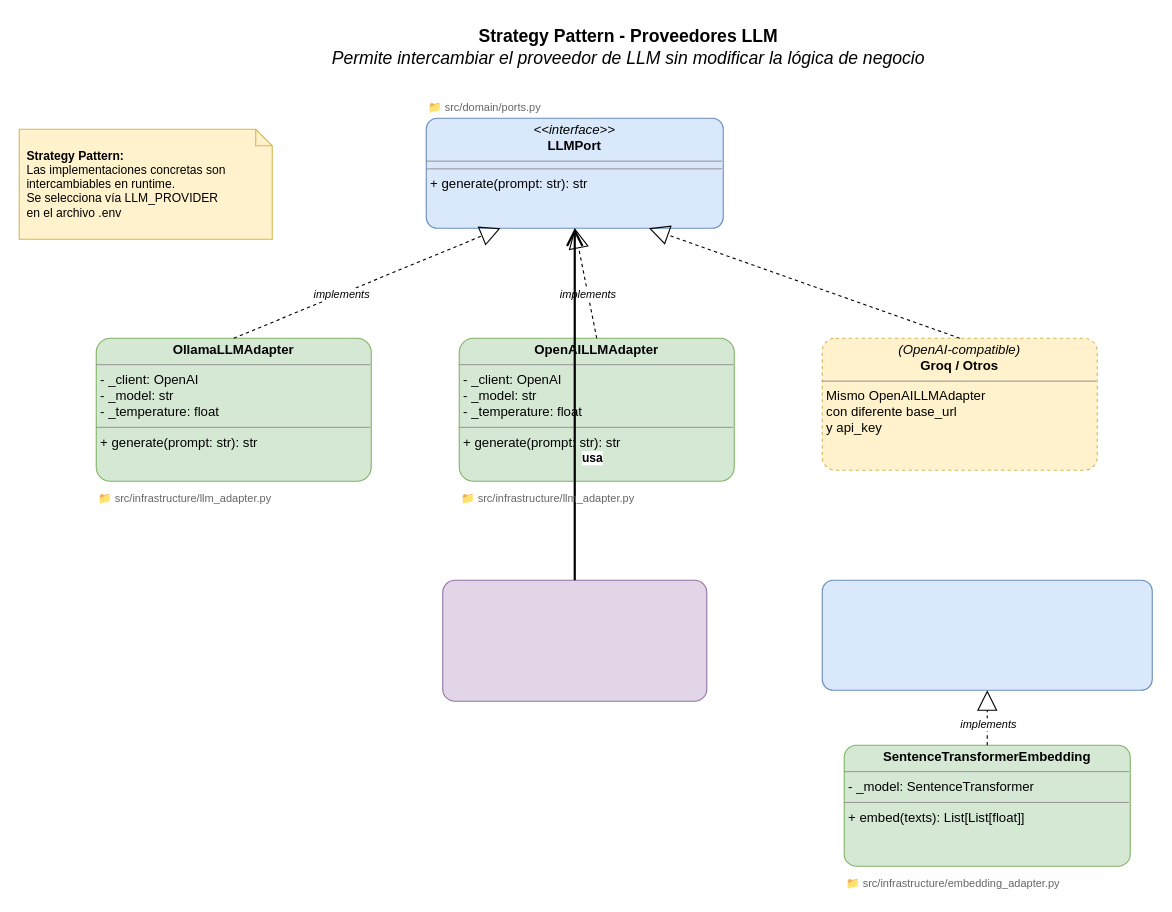
This 1172x912 diagram has some shape labels left out. Here are the shapes that lost their labels. From the top down, the centre of each, then its label:
At (574,640): "RAGService (Context) - _llm: LLMPort + ask(conv_id, question): Dict".
At (986,634): "<<interface>> EmbeddingPort + embed(texts: List[str]): List[List[float]]".
